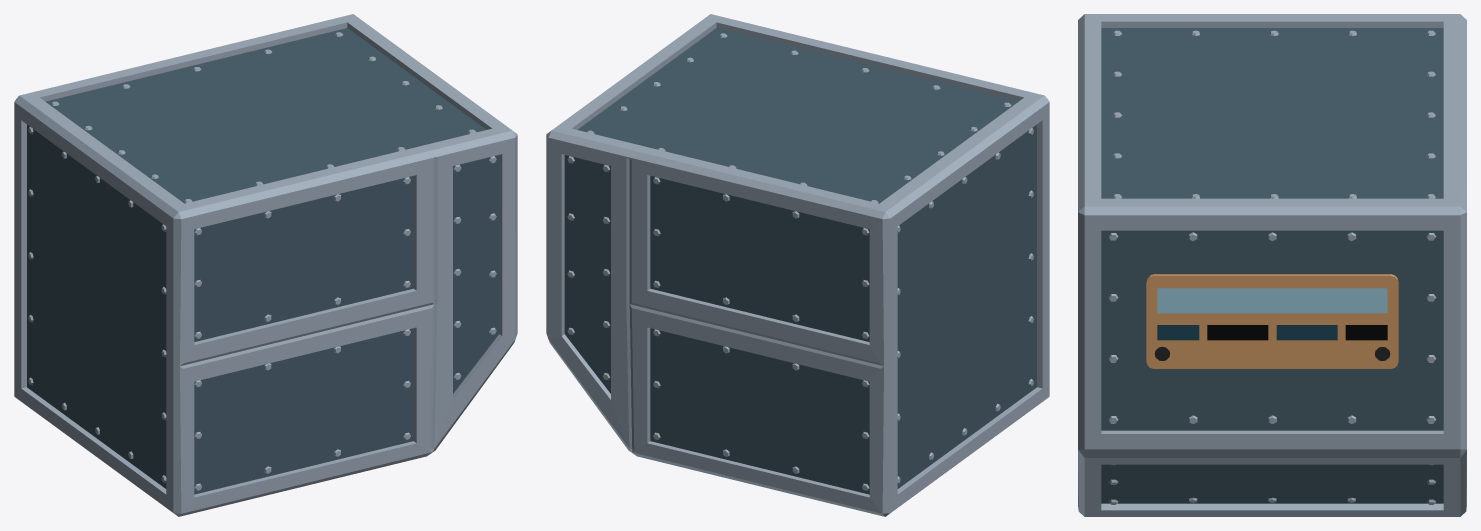
Rendered from airport-cargo-container-3.glb.
3 views of the same model, side by side, from view 1: azimuth 30°, elevation 25°; view 2: azimuth 150°, elevation 25°; view 3: azimuth 270°, elevation 25° (orthographic). The views are drawn at different scales.
Visible parts, largest first — view 1: 05.Container3_AIRPORT_0; view 2: 05.Container3_AIRPORT_0; view 3: 05.Container3_AIRPORT_0.
Part boxes in pixels (x1,y1,x2,y2): 05.Container3_AIRPORT_0: (14,14,517,516); 05.Container3_AIRPORT_0: (546,14,1049,516); 05.Container3_AIRPORT_0: (1078,14,1466,516).
Bounding box in the file's own units: 4.48 × 3.79 × 3.72.
1 material, 1 textured.
